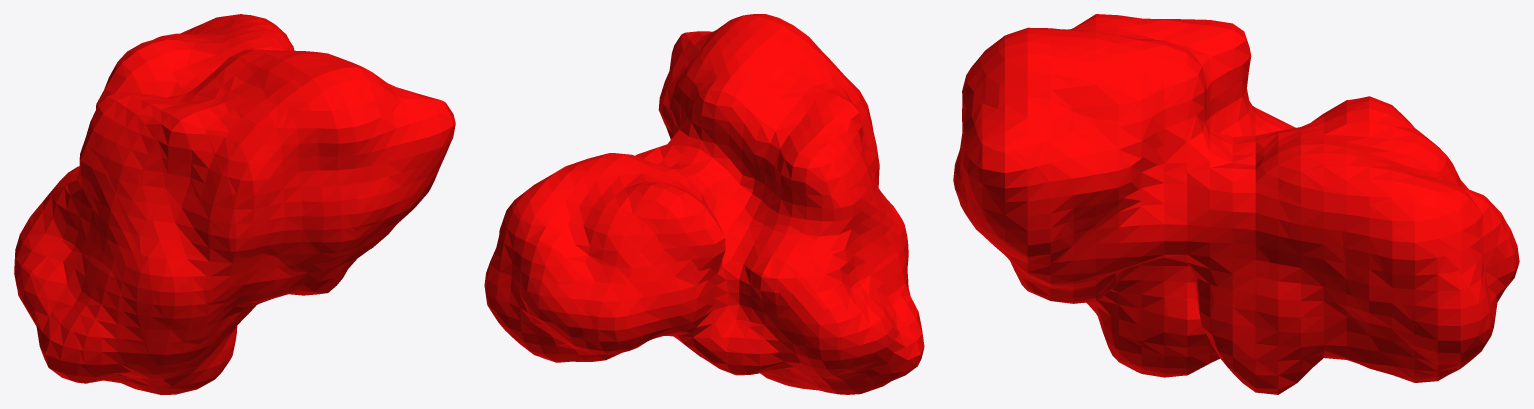
Rendered from nadA_coarse.dae.
3 renders of one model, left to right at view 1: azimuth 30°, elevation 25°; view 2: azimuth 150°, elevation 25°; view 3: azimuth 270°, elevation 25°, orthographic. The views are drawn at different scales.
Visible parts, largest first — view 1: nadA; view 2: nadA; view 3: nadA.
Boxes of the visible parts, x1,y1,x2,y2 form: nadA: [14, 14, 455, 394]; nadA: [484, 14, 924, 394]; nadA: [953, 14, 1519, 394].
Bounding box in the file's own units: 57.96 × 52.58 × 69.01.
